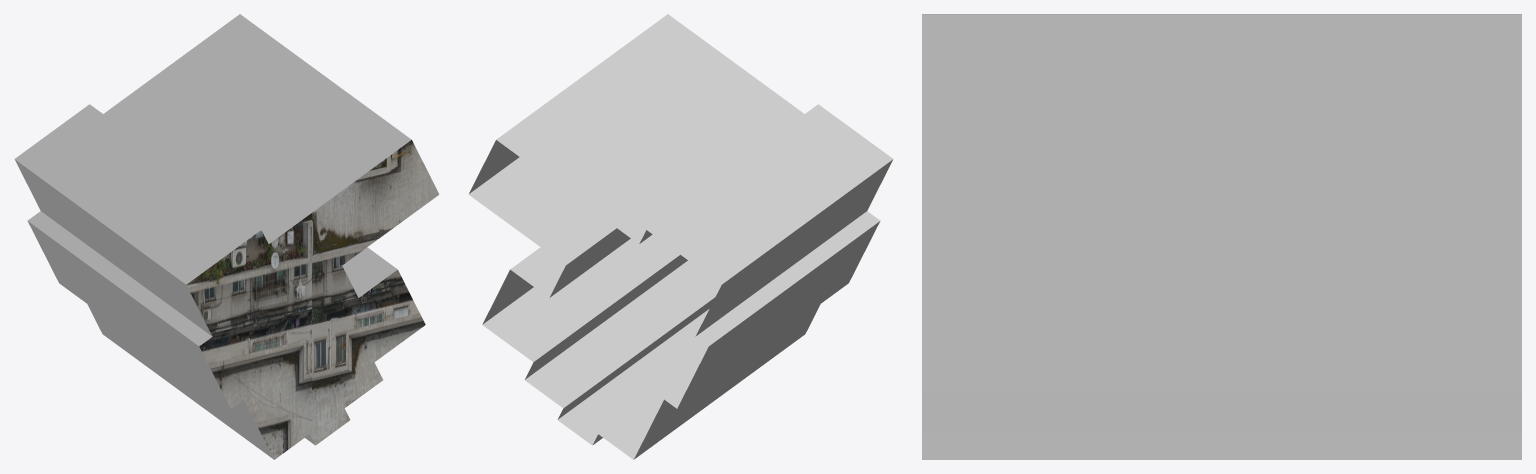
The model's file is geospecific_1541.obj.
The picture shows the model from 3 angles, left to right: view 1: azimuth 30°, elevation 25°; view 2: azimuth 150°, elevation 25°; view 3: azimuth 270°, elevation 25°; orthographic projection. The views are drawn at different scales.
Parts seen in each view (by area): view 1: Building; view 2: Building; view 3: Building.
Boxes of the visible parts, bbox=[...] form: Building: bbox=[14, 14, 439, 459]; Building: bbox=[468, 14, 893, 459]; Building: bbox=[922, 14, 1521, 459].
Bounding box in the file's own units: 17.87 × 19.33 × 21.
